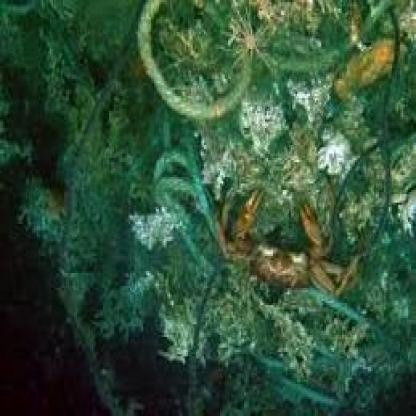net: (130, 2, 416, 316)
